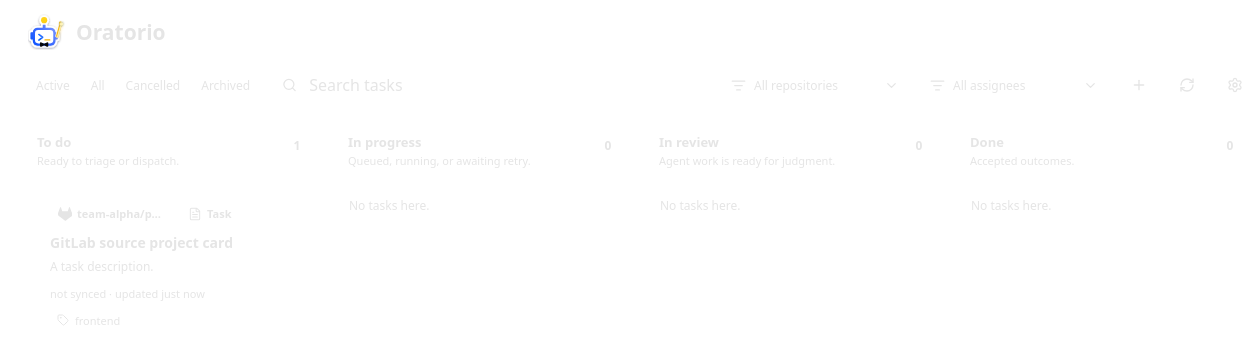
BoardView › uses compact source project labels on GitLab task cards
This screenshot has width=1259, height=343.
Expected: the text "team-alpha/project-alpha" is shown, [77,206,165,221]
Hover over the text "team-alpha/project-alpha".
mouse_move(112, 214)  # box [50,203,173,225]
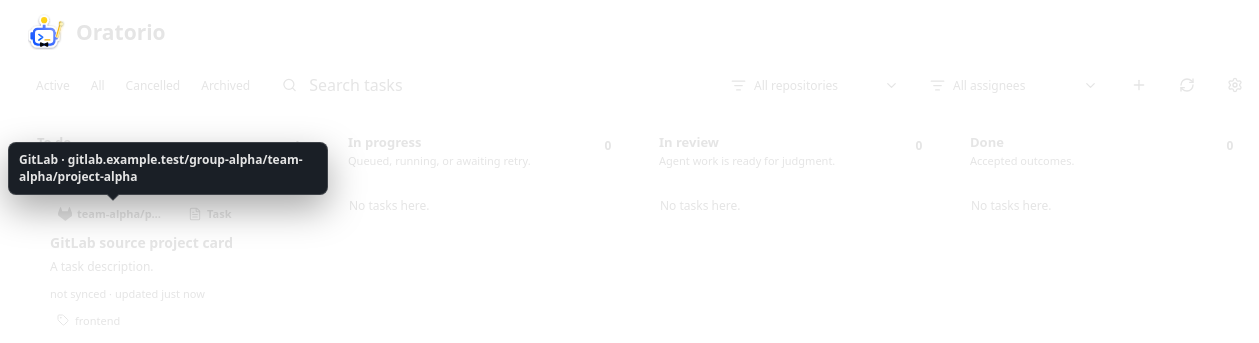
Now the tooltip reads "GitLab · gitlab.example.test/group-alpha/team-alpha/project-alpha", box [19,151,303,186]
